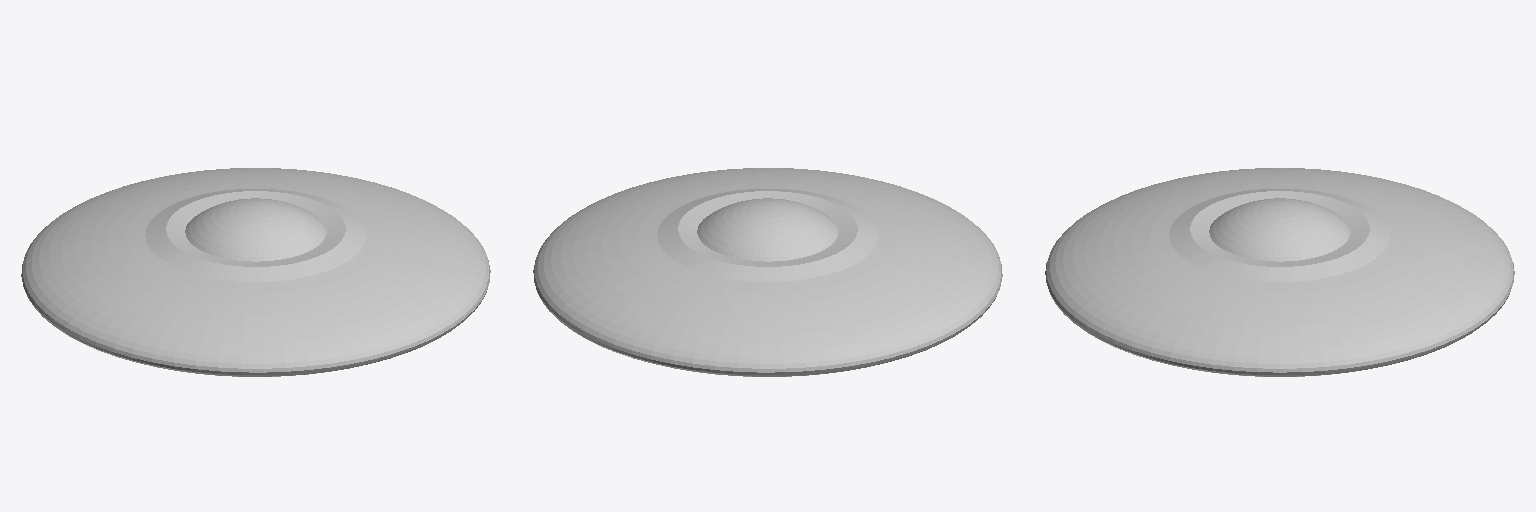
Rendered from Ovni.obj.
The picture shows the model from 3 angles: view 1: azimuth 30°, elevation 25°; view 2: azimuth 150°, elevation 25°; view 3: azimuth 270°, elevation 25°; orthographic projection.
Parts seen in each view (by area): view 1: Sphere, Sphere.001; view 2: Sphere, Sphere.001; view 3: Sphere, Sphere.001.
Boxes of the visible parts, x1=… form: Sphere: x1=21, y1=168, x2=490, y2=376; Sphere.001: x1=185, y1=198, x2=326, y2=261; Sphere: x1=533, y1=168, x2=1002, y2=376; Sphere.001: x1=697, y1=198, x2=838, y2=261; Sphere: x1=1045, y1=168, x2=1514, y2=376; Sphere.001: x1=1209, y1=198, x2=1350, y2=261.
Bounding box in the file's own units: 0.2206 × 0.0483 × 0.2206.